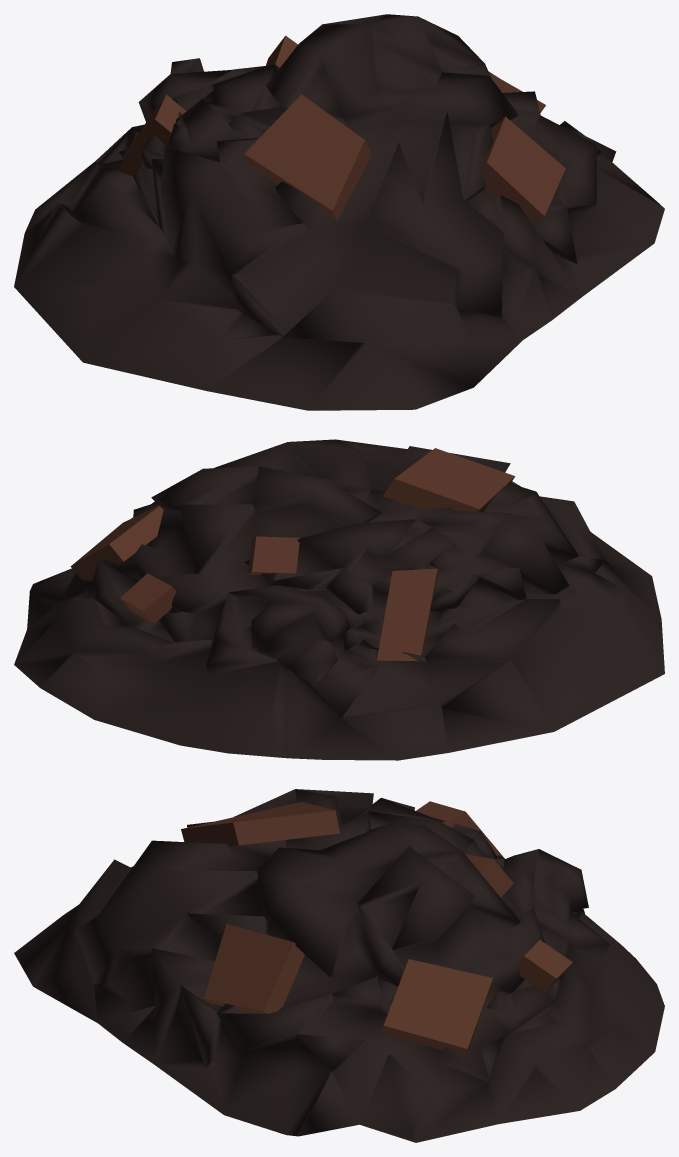
Rendered from pile_b.gltf.
3 renders of one model, top to bottom at view 1: azimuth 30°, elevation 25°; view 2: azimuth 150°, elevation 25°; view 3: azimuth 270°, elevation 25°, orthographic. The views are drawn at different scales.
Visible parts, largest first — view 1: Pile_B; view 2: Pile_B; view 3: Pile_B.
Boxes of the visible parts, left/top/right/bottom form: Pile_B: left=14, top=14, right=664, bottom=410; Pile_B: left=14, top=439, right=664, bottom=760; Pile_B: left=14, top=789, right=664, bottom=1142.
Size of the model in its own units: 5.41 by 1.65 by 5.26.
